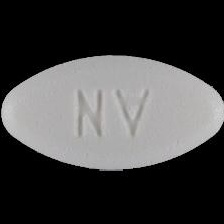65162-713: (0, 0, 224, 224)
